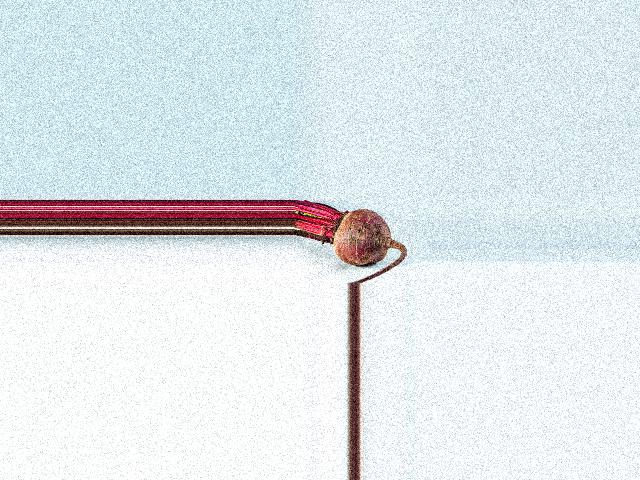beet: (292, 199, 406, 283)
